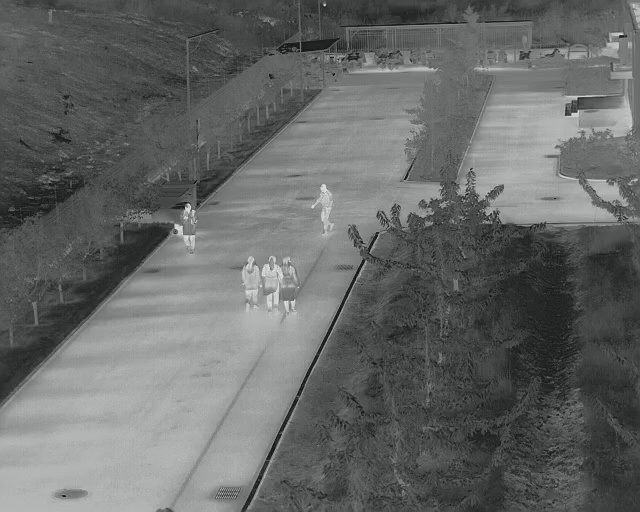person: (309, 182, 336, 237), (261, 254, 283, 315), (278, 255, 300, 315), (240, 254, 261, 311), (178, 201, 199, 256)
